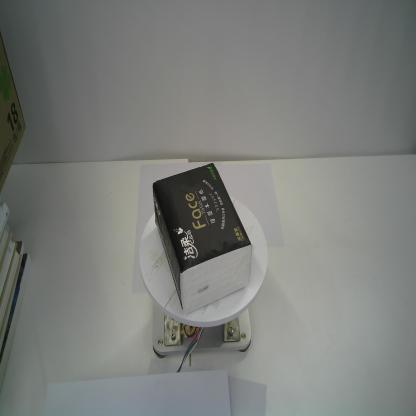Tissue: (152, 162, 252, 315)
